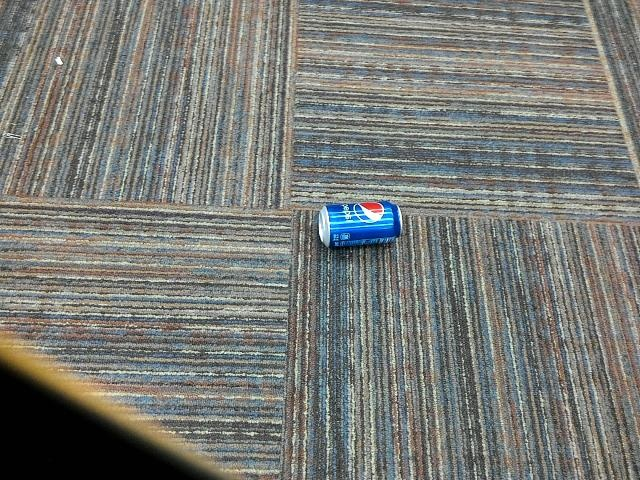can: (298, 193, 422, 256)
